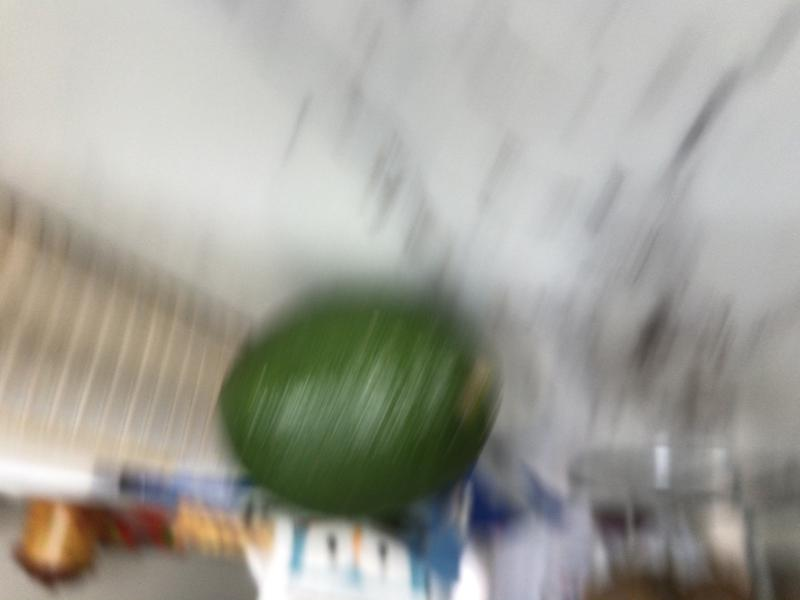lime: (199, 274, 509, 531)
